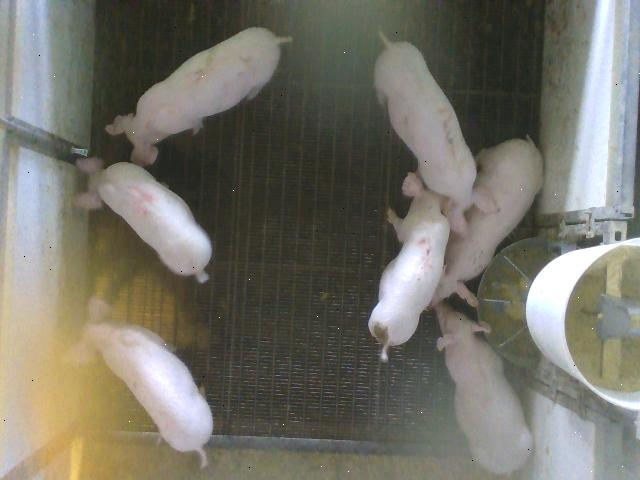pig-3: (374, 31, 500, 234)
pig-4: (75, 158, 211, 282)
pig-5: (369, 172, 450, 361)
